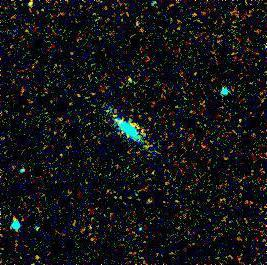star: (117, 64, 147, 94)
